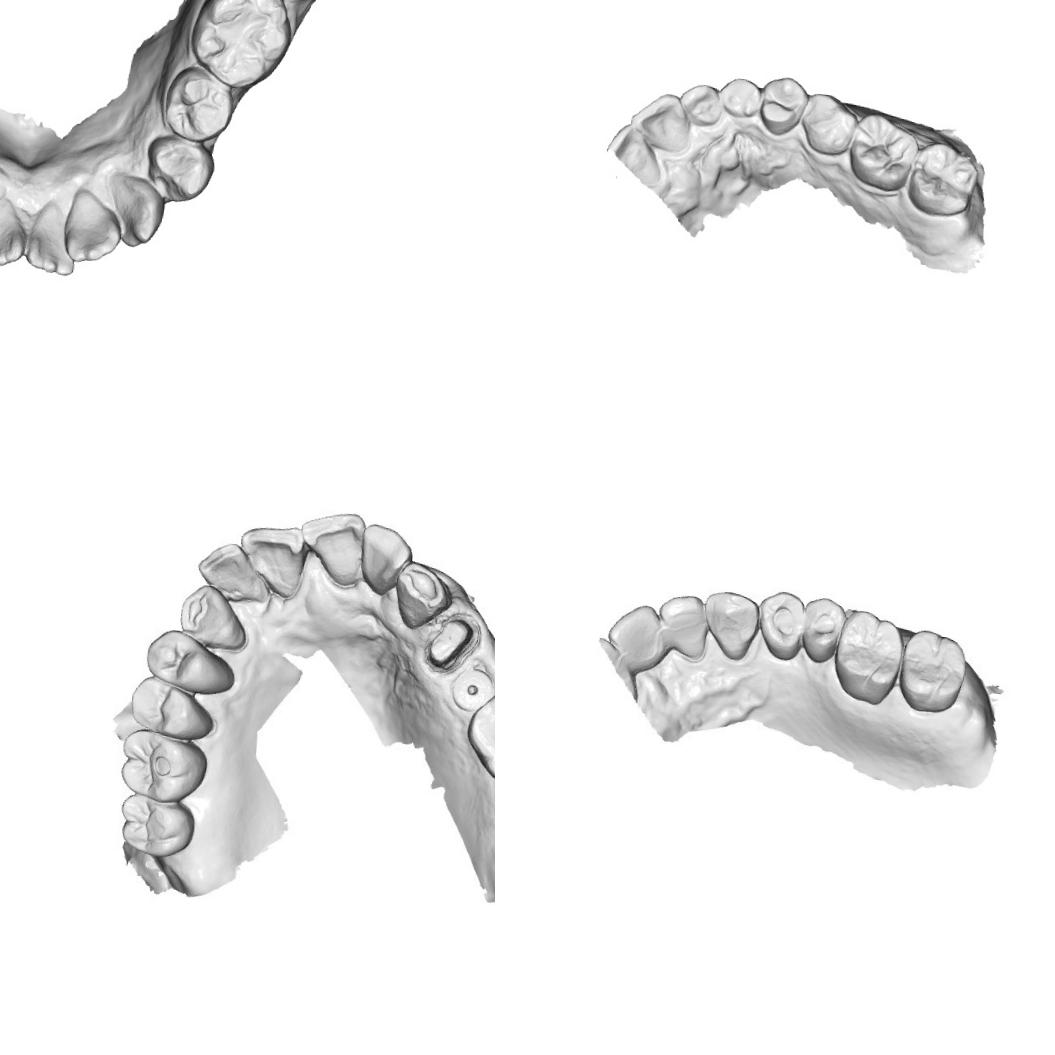canine: (697, 581, 763, 664), (107, 172, 166, 252), (175, 587, 247, 649), (391, 564, 447, 629), (714, 74, 763, 122)
crown: (429, 616, 474, 668)
implant: (450, 665, 495, 713)
incisor: (59, 188, 128, 269), (602, 596, 670, 671), (650, 591, 716, 667), (237, 525, 308, 595), (626, 88, 696, 157), (20, 201, 82, 278), (302, 510, 365, 584), (602, 120, 668, 187), (195, 542, 263, 600), (356, 523, 410, 596), (0, 197, 37, 273), (676, 79, 726, 128)
molar: (186, 0, 297, 93), (827, 606, 902, 708), (894, 626, 972, 719), (844, 109, 923, 196), (122, 729, 210, 801), (904, 139, 982, 220), (116, 792, 196, 853), (466, 689, 495, 783)
premolar: (158, 63, 238, 146), (140, 130, 218, 208), (142, 628, 234, 691), (128, 678, 210, 736), (793, 592, 854, 667), (753, 584, 808, 665), (798, 90, 858, 159), (756, 72, 812, 140)
